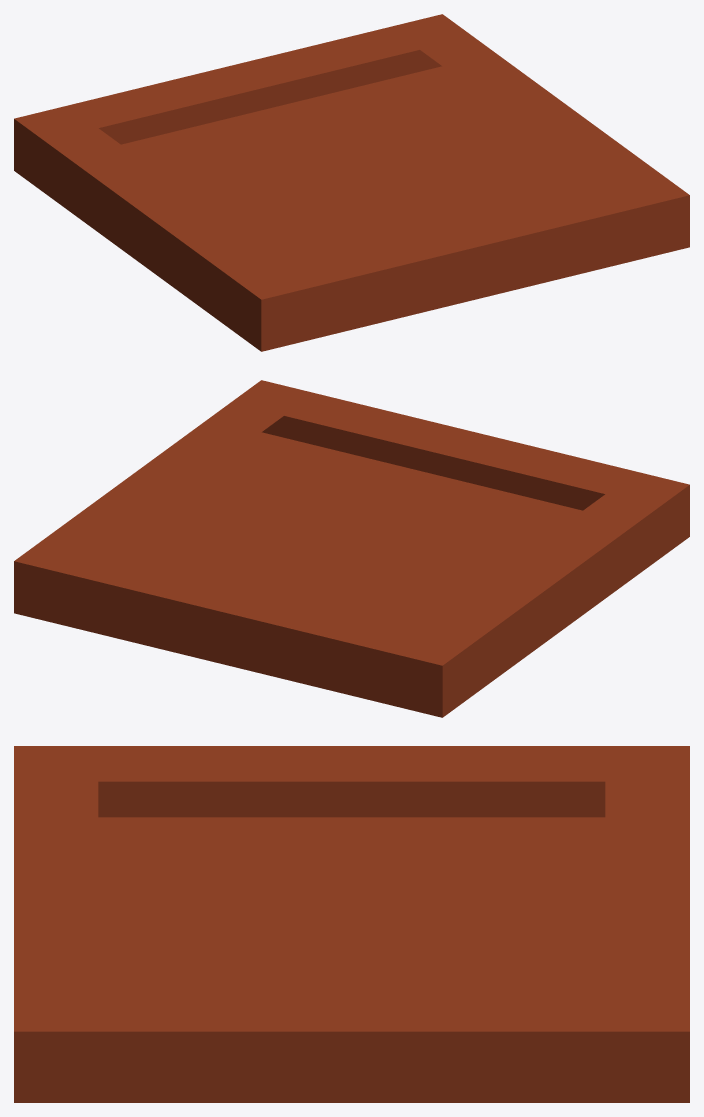
File: baseBotao.fbx
3 renders of one model, top to bottom at view 1: azimuth 30°, elevation 25°; view 2: azimuth 150°, elevation 25°; view 3: azimuth 270°, elevation 25°, orthographic. The views are drawn at different scales.
Visible parts, largest first — view 1: polySurface69; view 2: polySurface69; view 3: polySurface69.
Part boxes in pixels (x1,y1,x2,y2): polySurface69: (14,14,689,351); polySurface69: (14,380,689,717); polySurface69: (14,746,689,1102).
Size of the model in its own units: 20.53 by 2.39 by 20.53.
